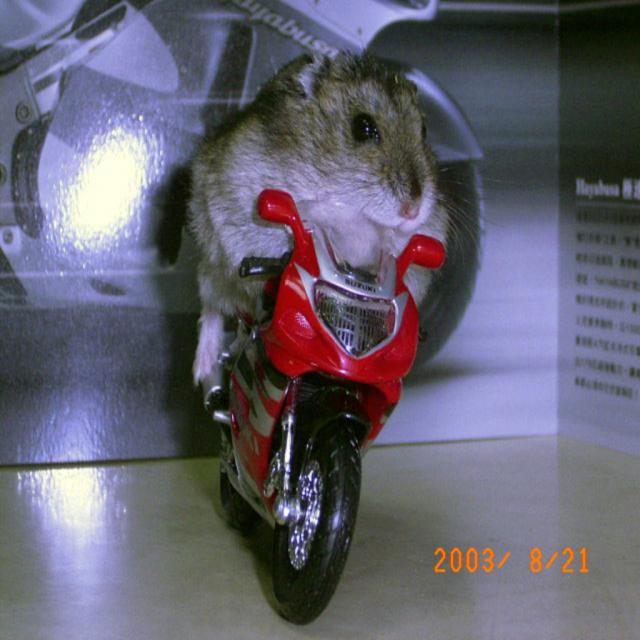rat: (187, 53, 487, 390)
